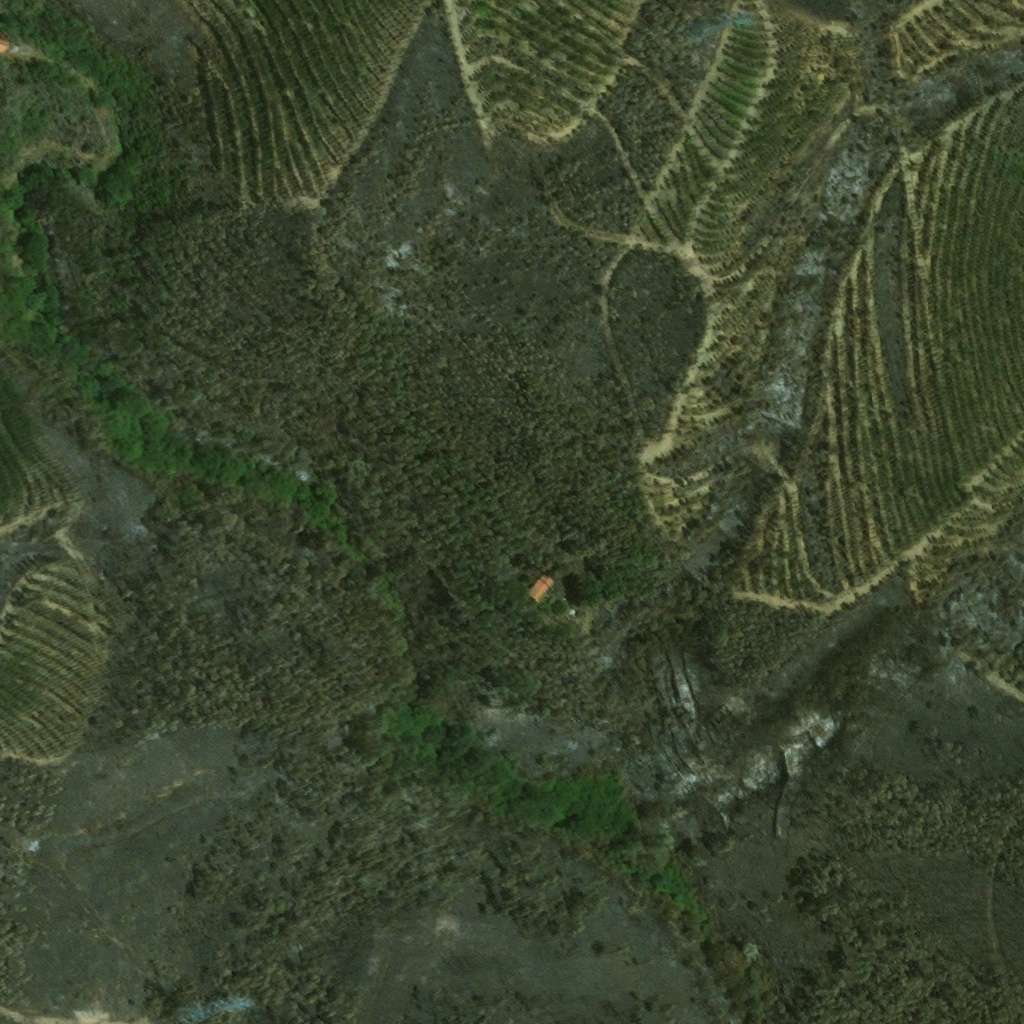0 no-damage: (529, 574, 556, 605), (0, 40, 10, 57)
